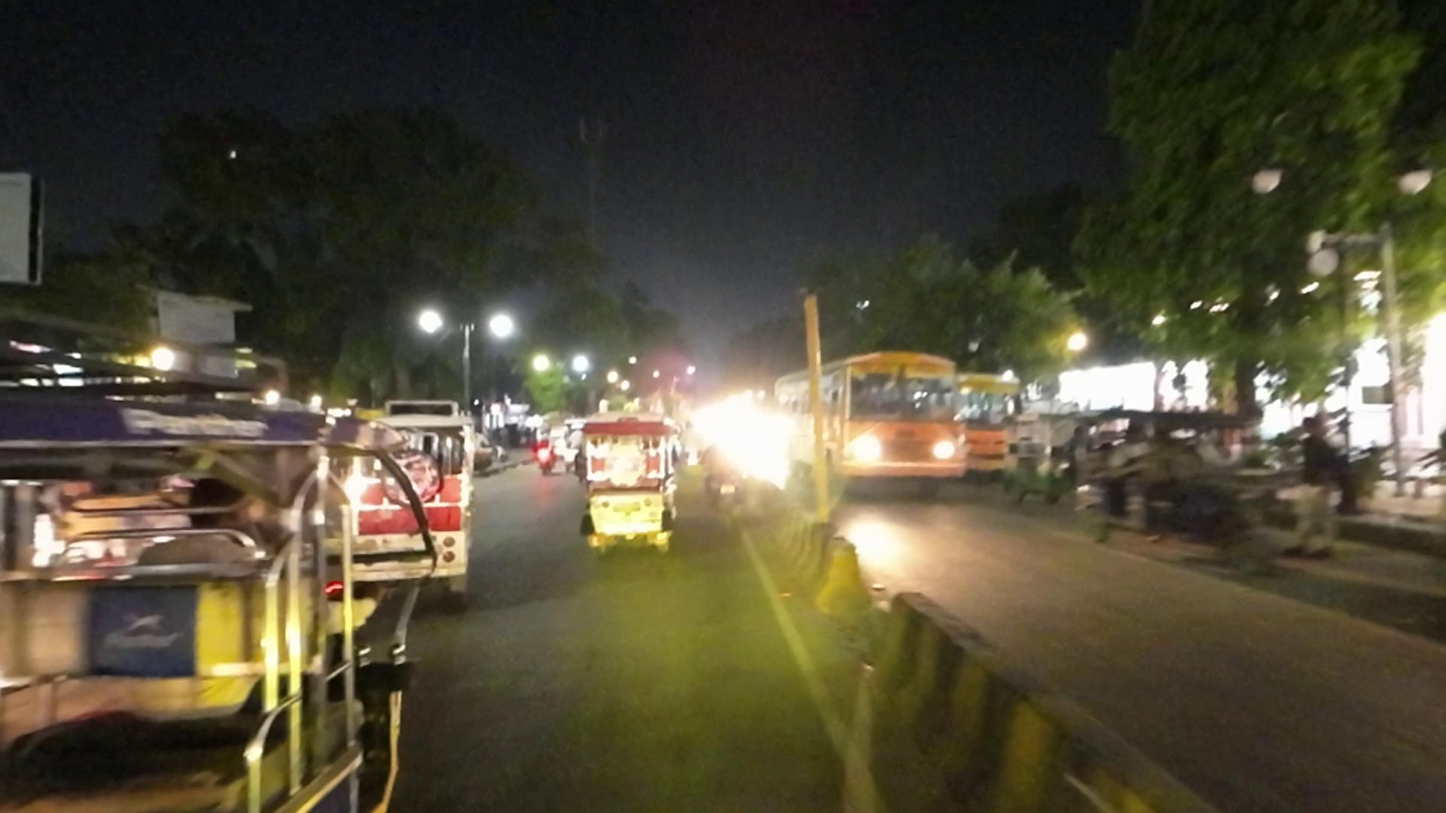streetlight: (1378, 132, 1442, 203), (1239, 125, 1294, 204)
